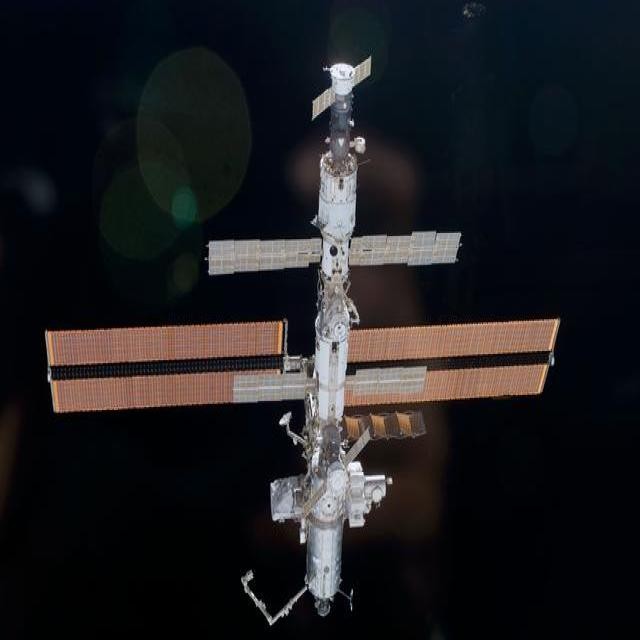medium_debris: (46, 59, 559, 624)
